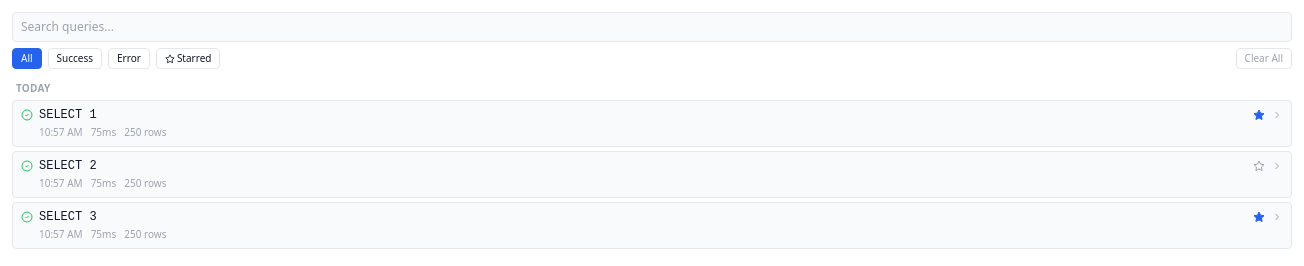
Test case: QHP-8: Starred filter shows only starred entries › filters to only starred entries when Starred button is clicked
Expected: the number of elements with test id "query-history-entry" is 3, [12, 100, 1292, 147]; [12, 151, 1292, 198]; [12, 202, 1292, 249]
Click the button with test id "query-history-filter-starred".
click(188, 58)  # box [156, 48, 220, 69]
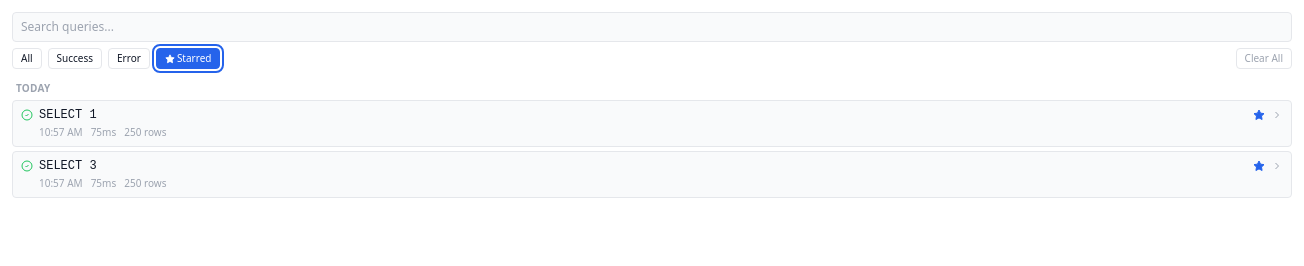
Expected: the number of elements with test id "query-history-entry" is 2, [12, 100, 1292, 147]; [12, 151, 1292, 198]
